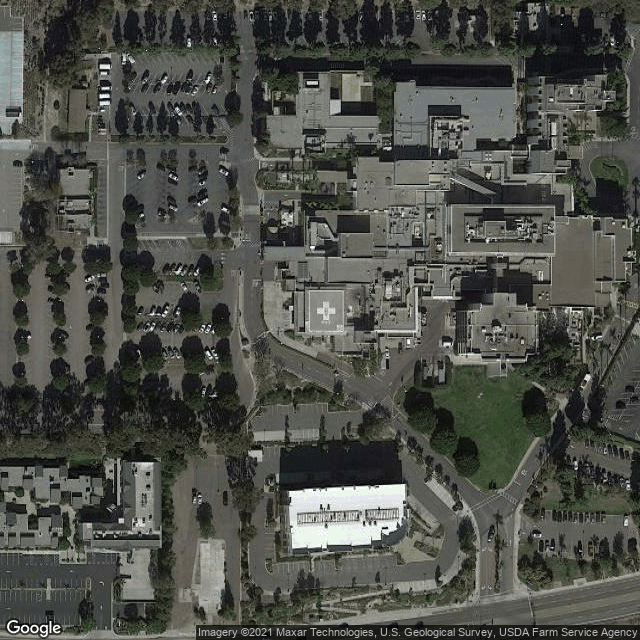Helipad: (312, 294, 343, 325)
